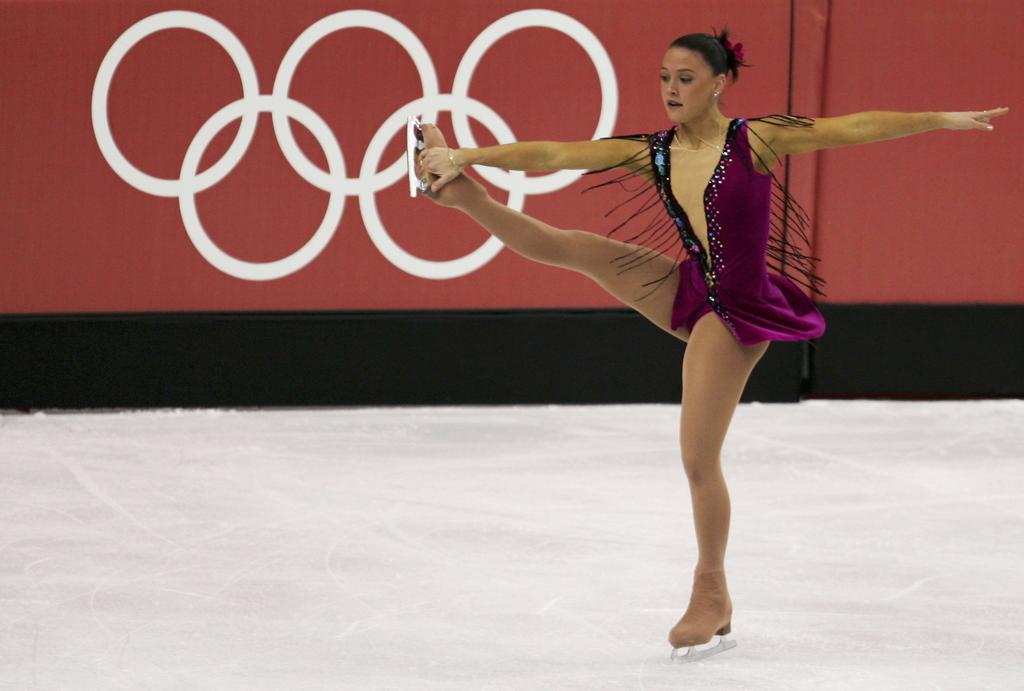face: (660, 46, 718, 124)
